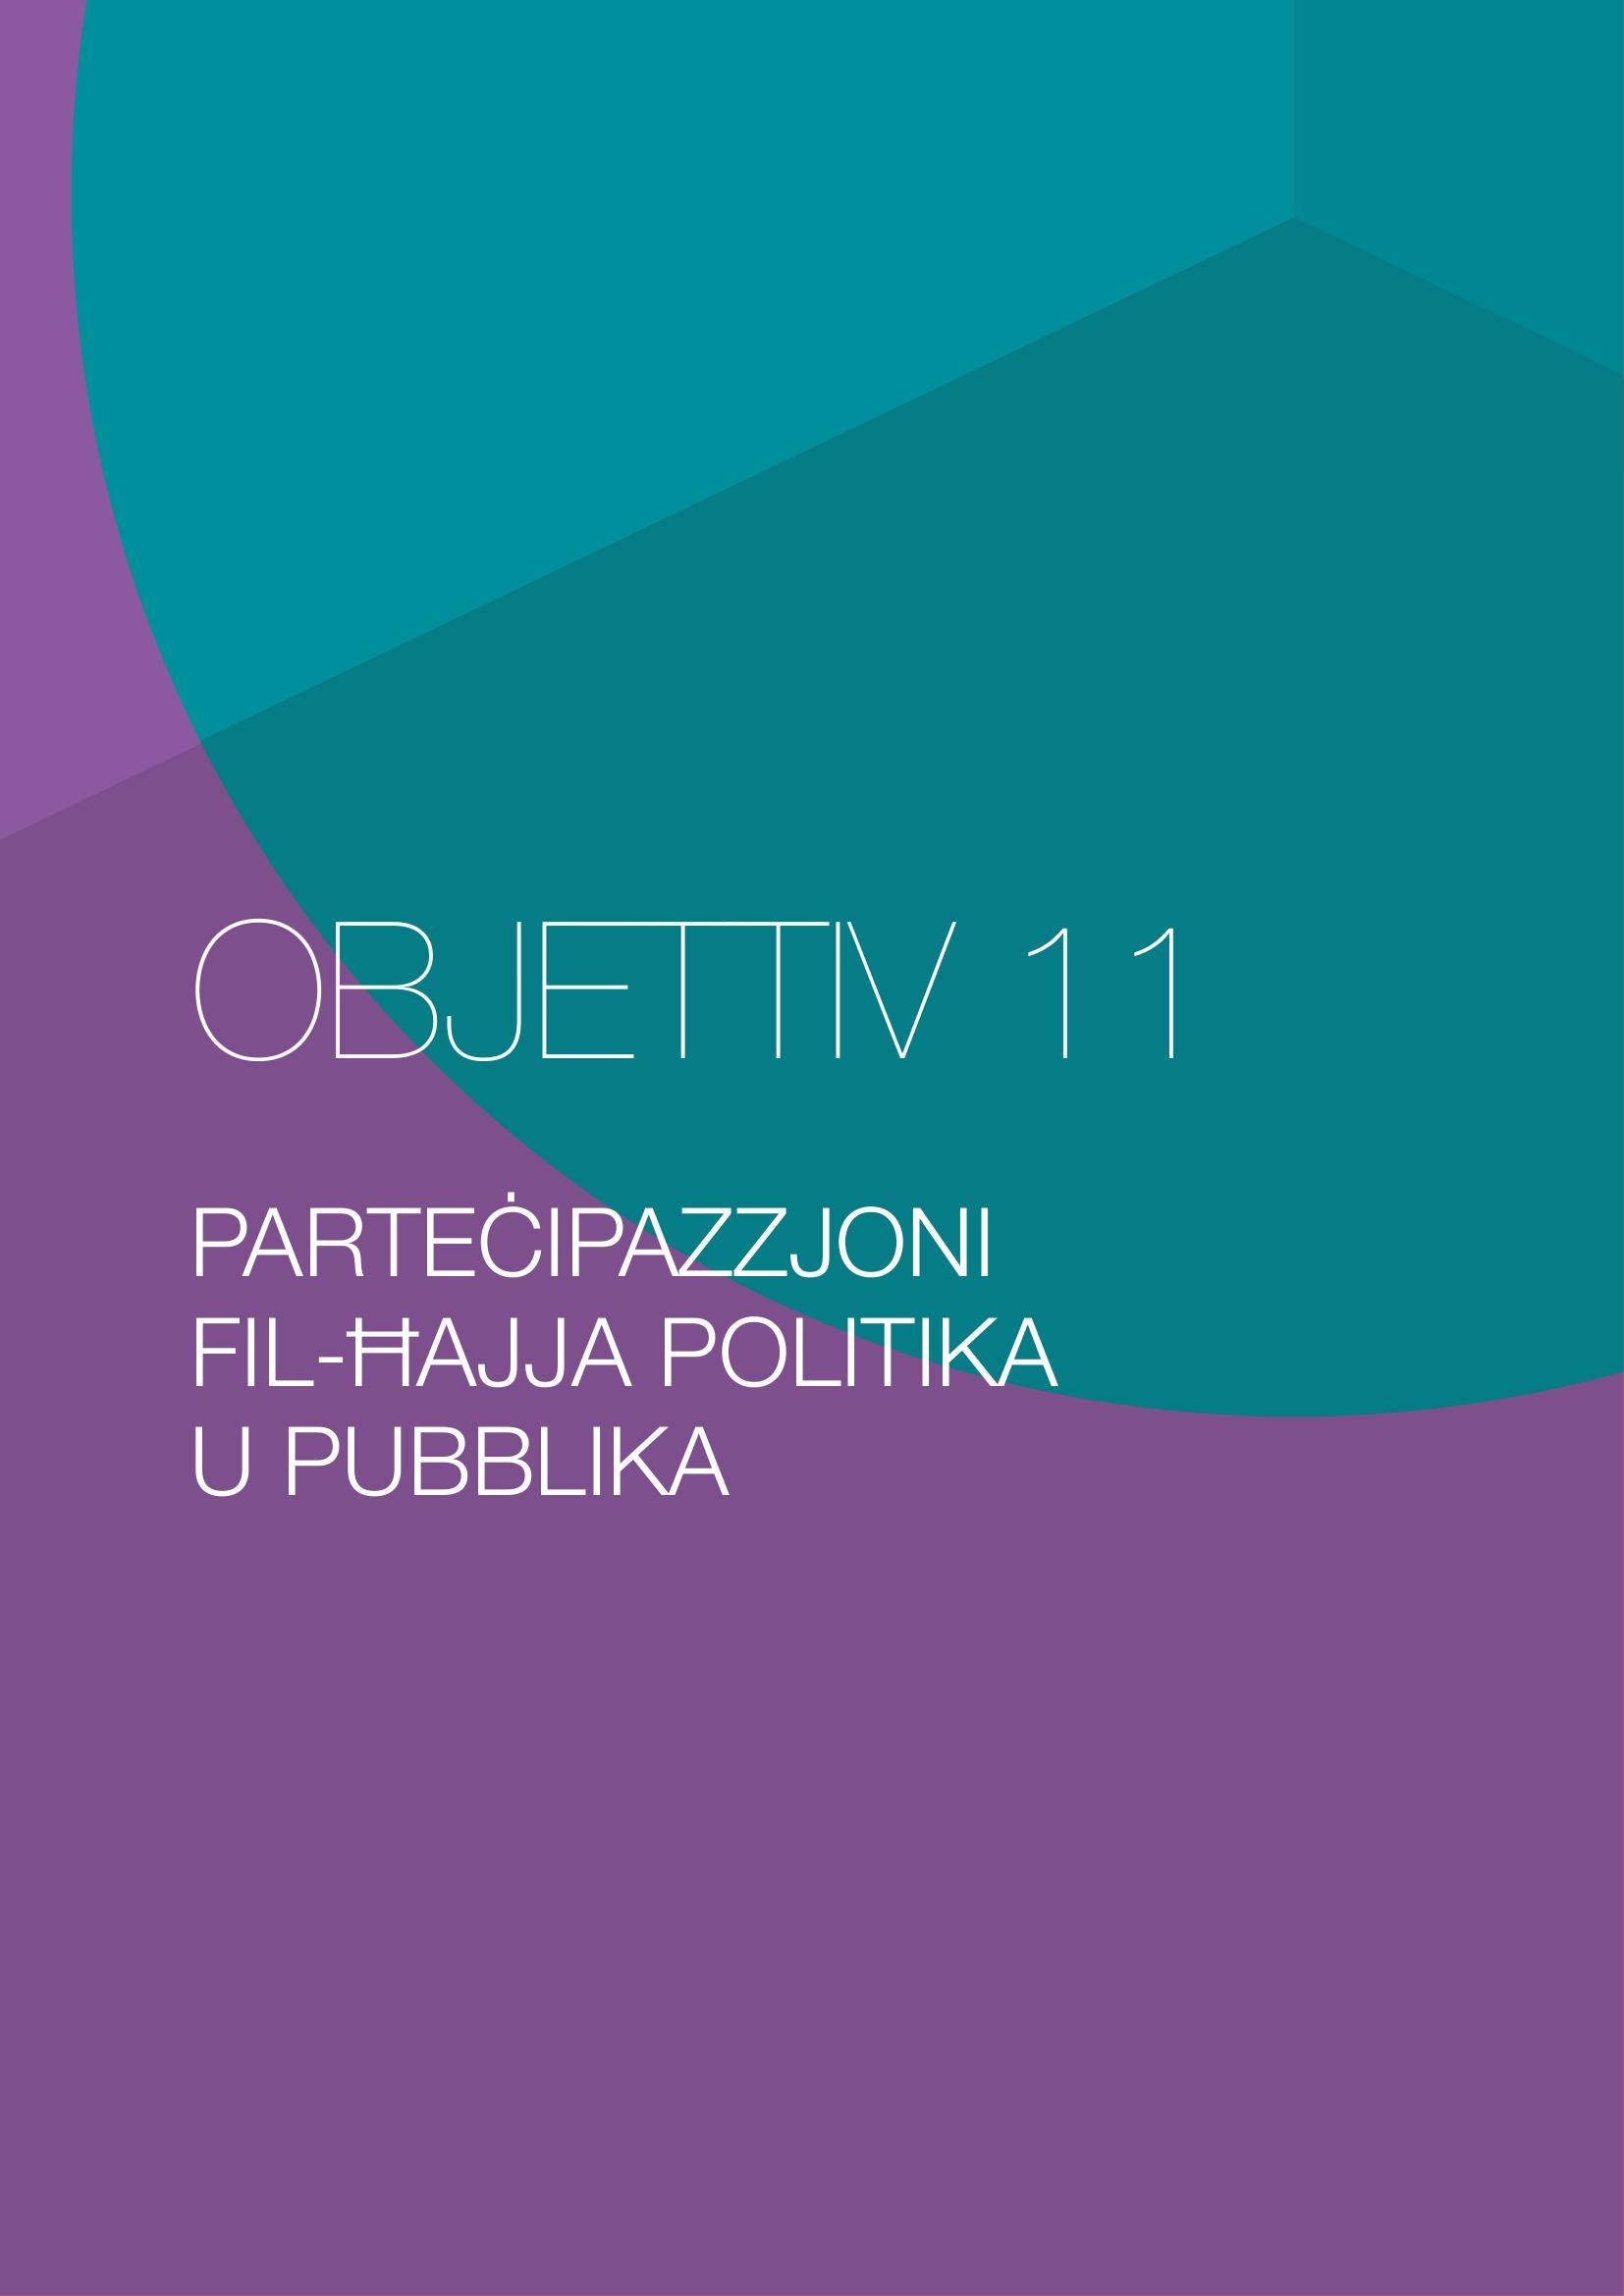text: (139, 871, 1323, 1560)
